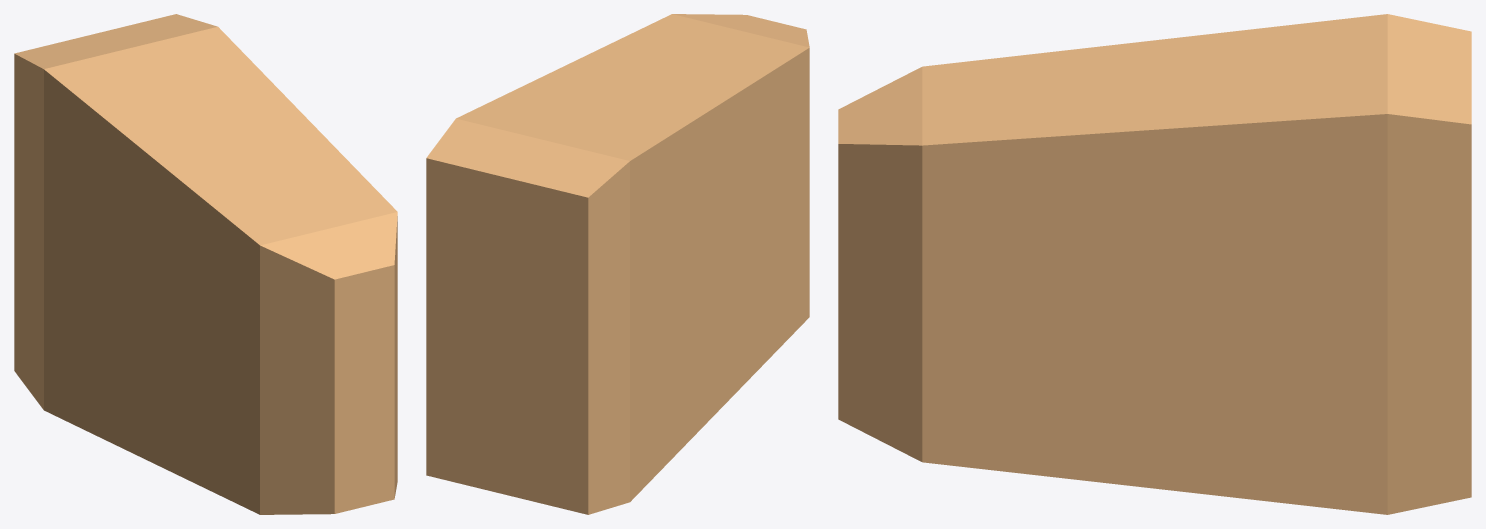
The model's file is bag_collision.obj.
The picture shows the model from 3 angles, left to right: view 1: azimuth 30°, elevation 25°; view 2: azimuth 150°, elevation 25°; view 3: azimuth 270°, elevation 25°; orthographic projection. The views are drawn at different scales.
Parts seen in each view (by area): view 1: bag.002; view 2: bag.002; view 3: bag.002.
Part boxes in pixels (x1,y1,x2,y2): bag.002: (14,14,397,514); bag.002: (426,14,809,514); bag.002: (838,14,1471,514).
Size of the model in its own units: 0.1101 by 0.2059 by 0.2947.
